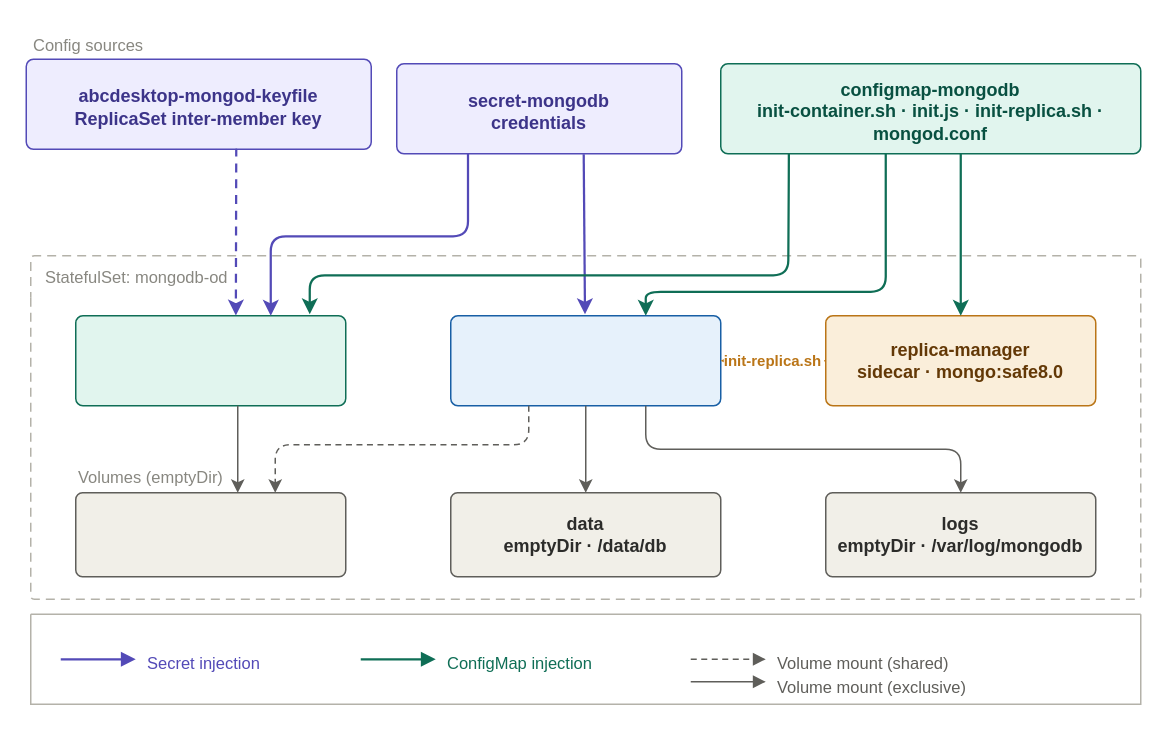
This 1167x731 diagram has some shape labels left out. Each missing label, with the centre of its shape:
InitContainer prepare-config: the point at 210,360
mongodb mongo:safe8.0: the point at 585,360
prepared-config emptyDir: the point at 210,534
